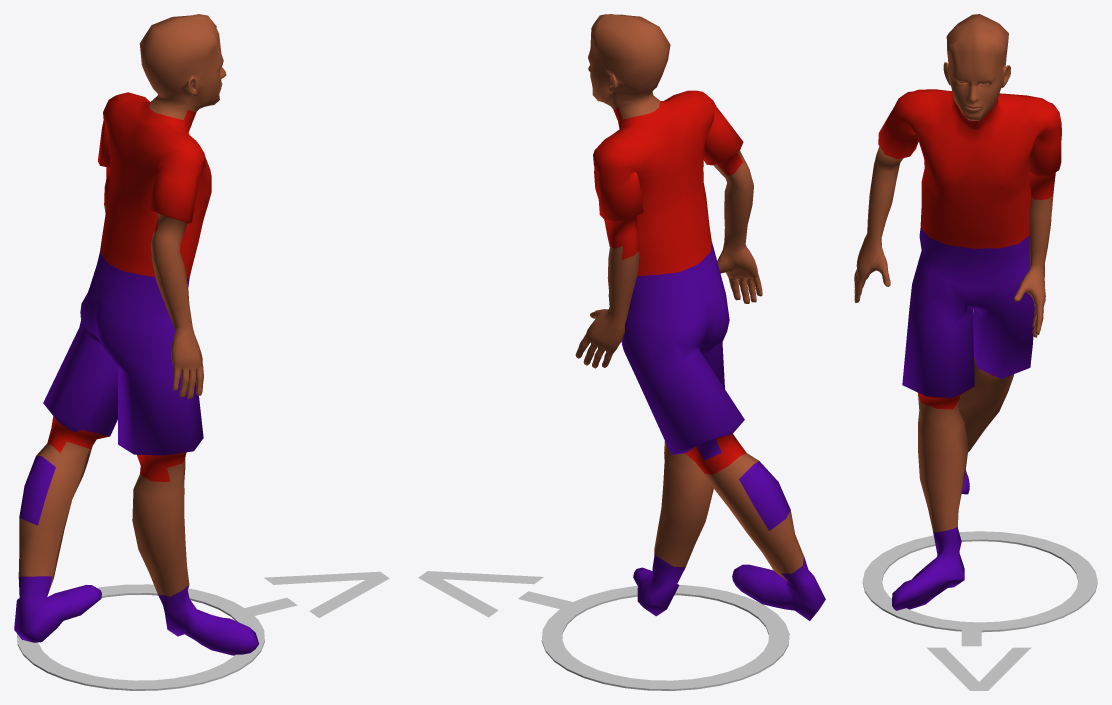
File: player_000036.obj
3 views of the same model, side by side, from view 1: azimuth 30°, elevation 25°; view 2: azimuth 150°, elevation 25°; view 3: azimuth 270°, elevation 25° (orthographic). The views are drawn at different scales.
Parts seen in each view (by area): view 1: soccerplayer.002_mesh.003, Circle, Text.001_Mesh.001; view 2: soccerplayer.002_mesh.003, Circle, Text.001_Mesh.001; view 3: soccerplayer.002_mesh.003, Circle, Text.001_Mesh.001.
Part boxes in pixels (x1,y1,x2,y2): soccerplayer.002_mesh.003: [14, 14, 258, 655]; Circle: [17, 584, 264, 690]; Text.001_Mesh.001: [239, 571, 389, 617]; soccerplayer.002_mesh.003: [575, 14, 825, 620]; Circle: [541, 585, 789, 690]; Text.001_Mesh.001: [418, 571, 575, 617]; soccerplayer.002_mesh.003: [854, 14, 1061, 610]; Circle: [862, 531, 1097, 632]; Text.001_Mesh.001: [927, 624, 1031, 690].
Size of the model in its own units: 1.94 by 2.96 by 1.13.
